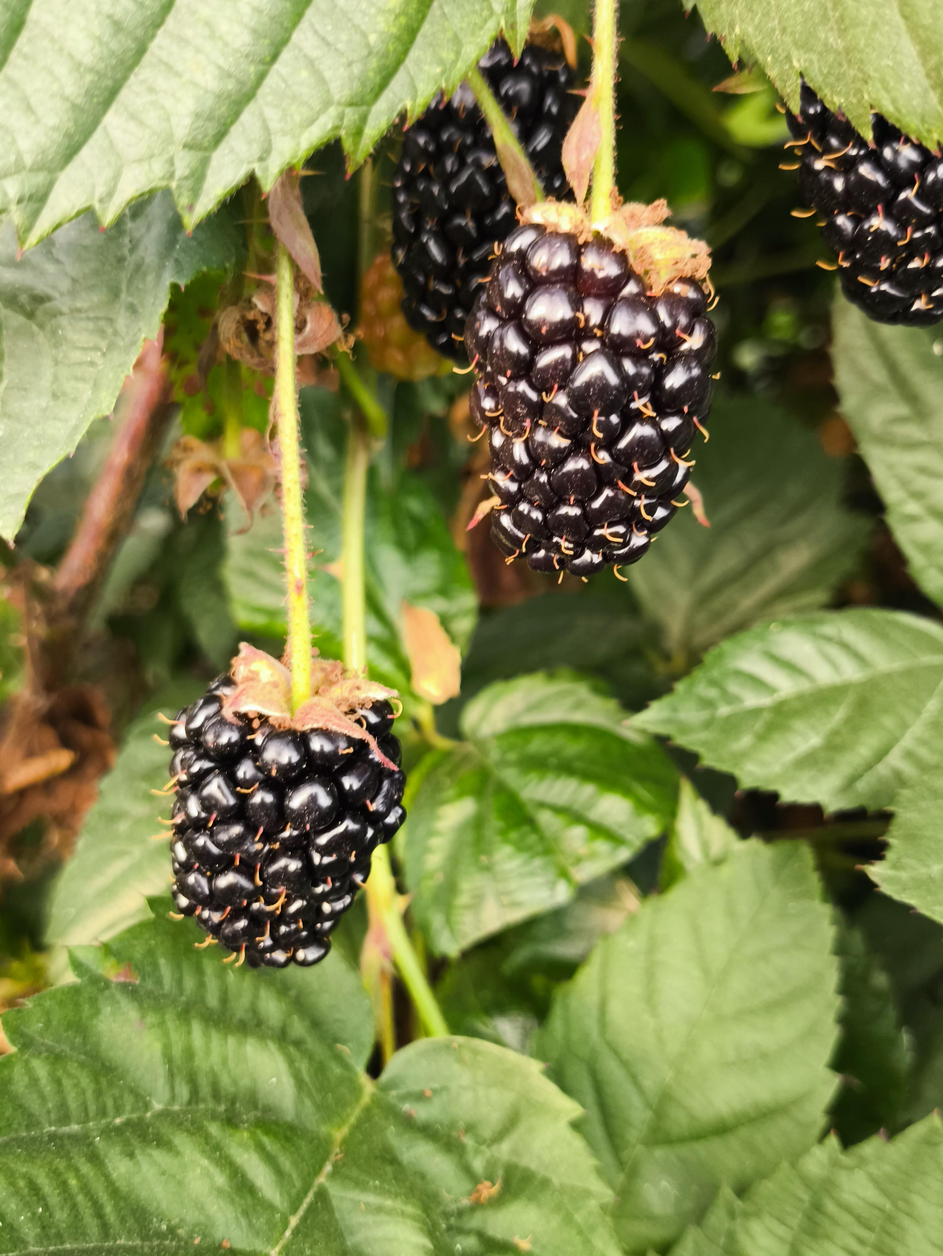maduro: (475, 219, 716, 576), (174, 663, 405, 967), (786, 81, 943, 326)
